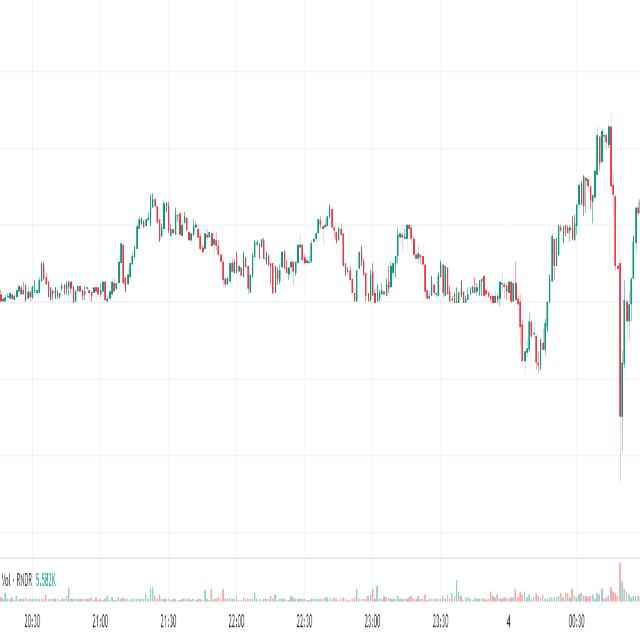Channel-up: (548, 98, 616, 305)
Double-Bottom: (514, 289, 556, 386)
